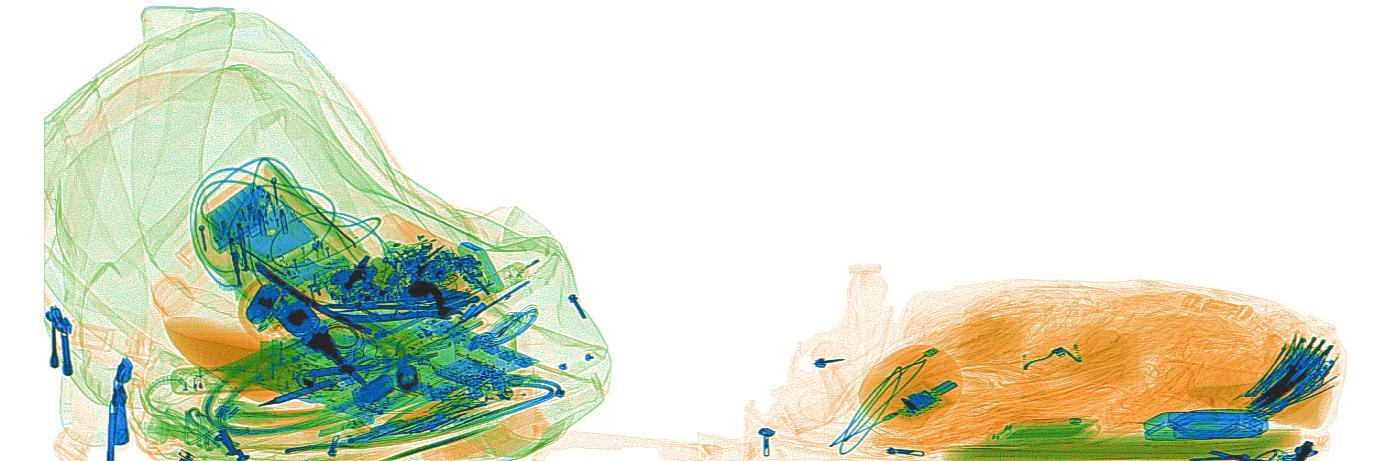battery: (349, 371, 396, 409), (244, 283, 281, 324)
